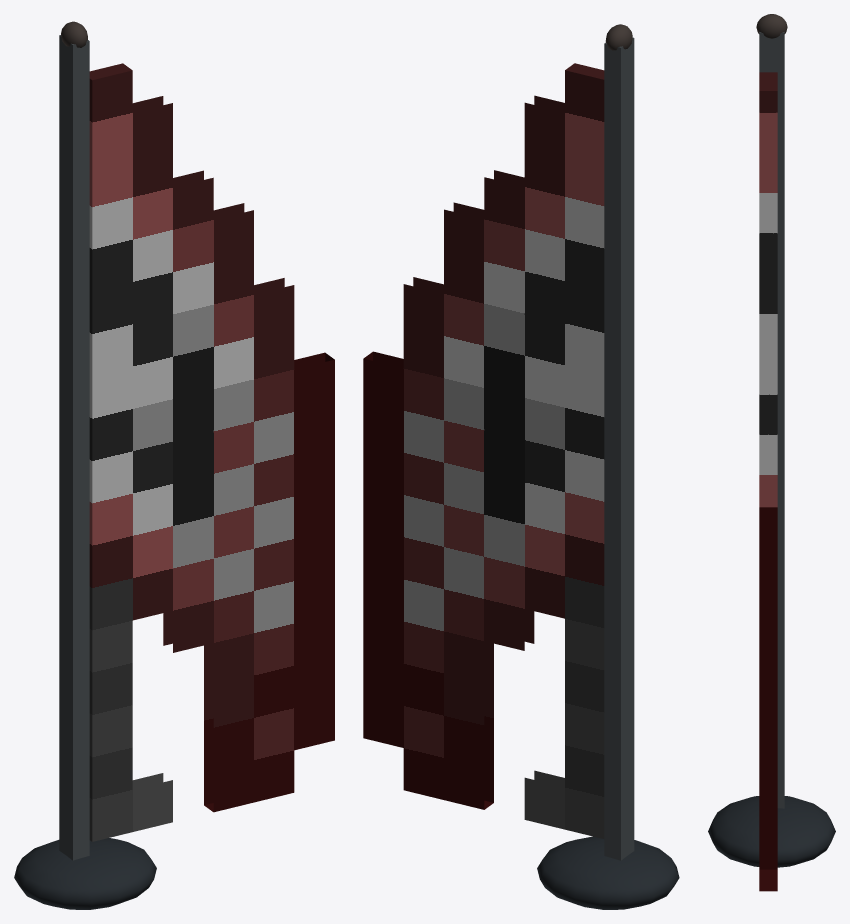
File: CMU3DPrintedAU14UADeskFlag.glb
3 renders of one model, left to right at view 1: azimuth 30°, elevation 25°; view 2: azimuth 150°, elevation 25°; view 3: azimuth 270°, elevation 25°, orthographic. The views are drawn at different scales.
Visible parts, largest first — view 1: draped printed flag, flag pole, weighted rounded desktop base; view 2: draped printed flag, flag pole, weighted rounded desktop base; view 3: draped printed flag, flag pole, weighted rounded desktop base, pole top finial.
Boxes of the visible parts, box(x1,y1,x2,y2) form: draped printed flag: box(89, 63, 334, 841); flag pole: box(59, 35, 89, 860); weighted rounded desktop base: box(14, 838, 156, 909); draped printed flag: box(363, 63, 604, 838); flag pole: box(604, 37, 634, 860); weighted rounded desktop base: box(537, 836, 679, 909); draped printed flag: box(759, 72, 777, 891); flag pole: box(759, 32, 784, 808); weighted rounded desktop base: box(708, 796, 835, 867); pole top finial: box(756, 14, 787, 38).
Size of the model in its own units: 0.2365 by 0.647 by 0.09.
Materials: 4 (1 with a texture image).
